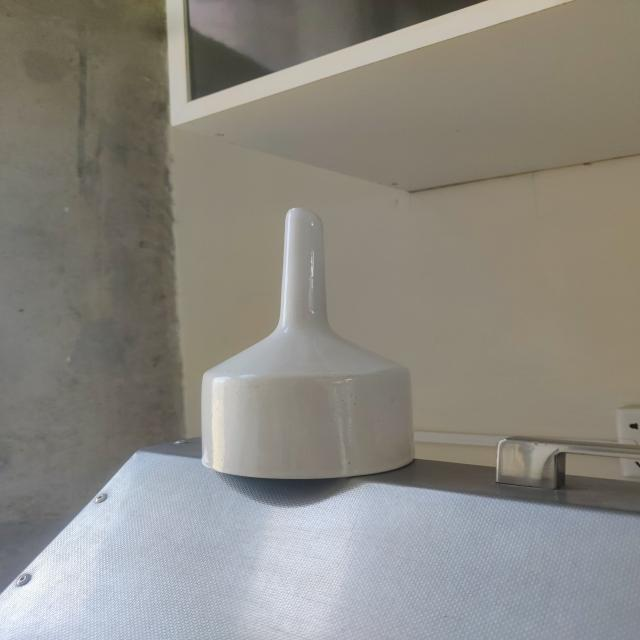Buchner_Funnel: (128, 197, 474, 505)
